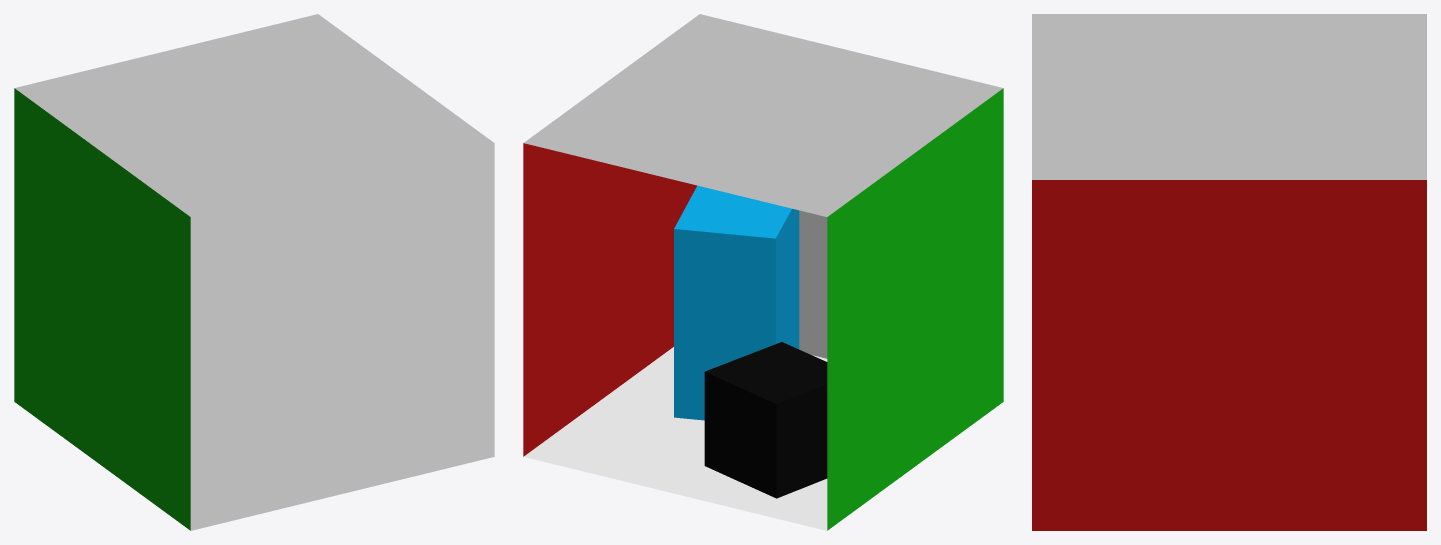
The model's file is boxlightnormal.obj.
3 renders of one model, left to right at view 1: azimuth 30°, elevation 25°; view 2: azimuth 150°, elevation 25°; view 3: azimuth 270°, elevation 25°, orthographic. The views are drawn at different scales.
Parts seen in each view (by area): view 1: object 2; view 2: object 2; view 3: object 2.
Part boxes in pixels (x1,y1,x2,y2): object 2: [14, 14, 494, 530]; object 2: [523, 14, 1003, 530]; object 2: [1032, 14, 1426, 530].
Size of the model in its own units: 5.56 by 5.49 by 5.59.
